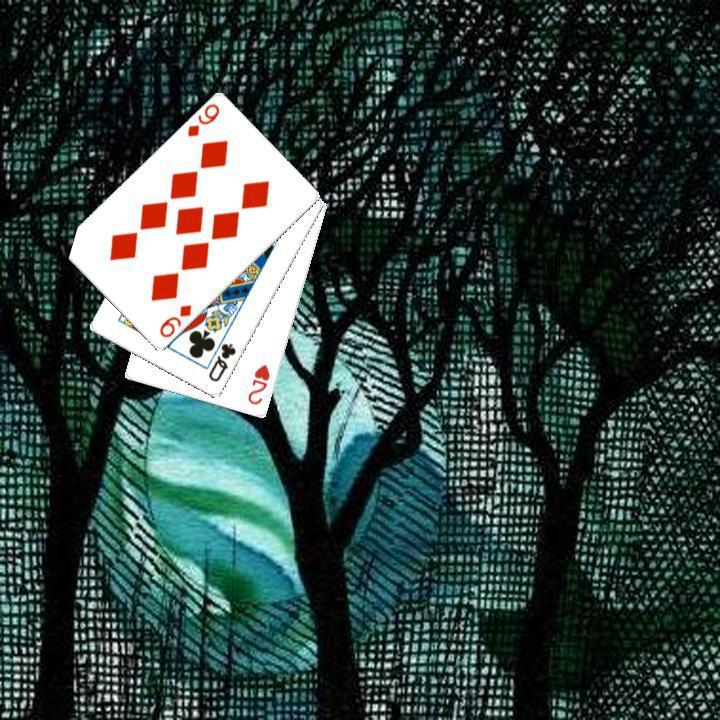2: (243, 360, 272, 407)
9: (155, 301, 194, 340), (183, 100, 222, 139)
Q: (204, 339, 238, 384)
